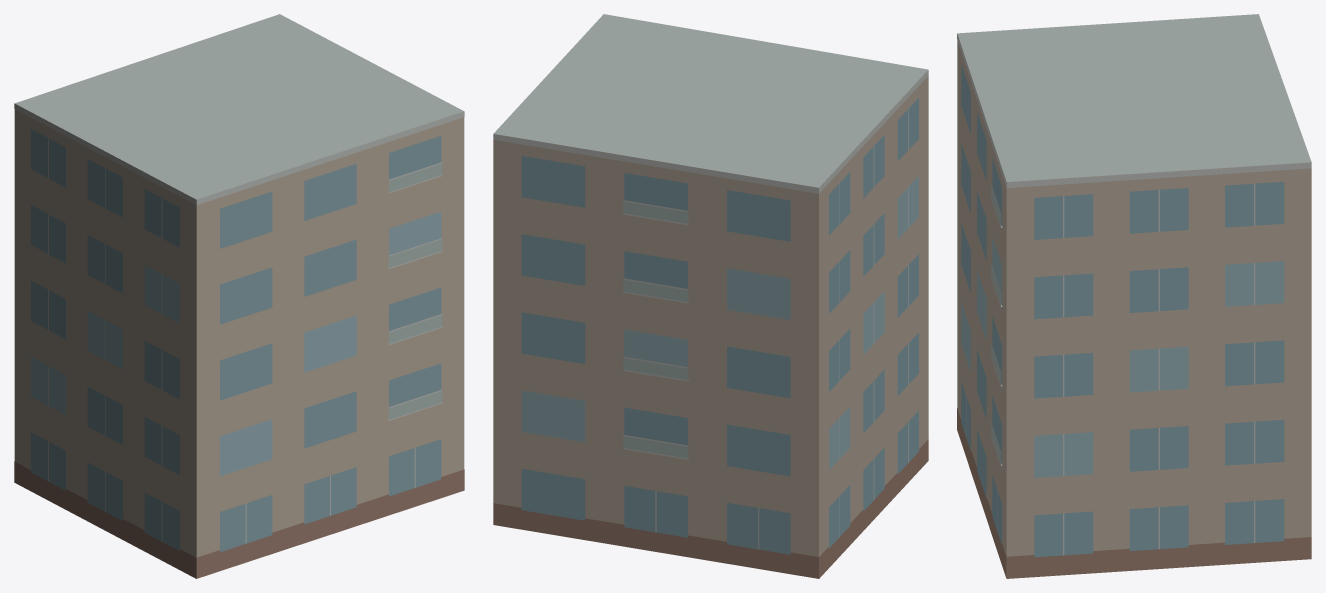
Rendered from survey-upis-32970055.glb.
The picture shows the model from 3 angles, left to right: view 1: azimuth 30°, elevation 25°; view 2: azimuth 150°, elevation 25°; view 3: azimuth 270°, elevation 25°; orthographic projection. The views are drawn at different scales.
Visible parts, largest first — view 1: survey-upis-32970055.tmp; view 2: survey-upis-32970055.tmp; view 3: survey-upis-32970055.tmp.
Part boxes in pixels (box(x1,y1,x2,y2)): survey-upis-32970055.tmp: box(14, 14, 464, 578); survey-upis-32970055.tmp: box(493, 14, 928, 578); survey-upis-32970055.tmp: box(957, 14, 1311, 578).
Size of the model in its own units: 14.64 by 16.1 by 13.05.
